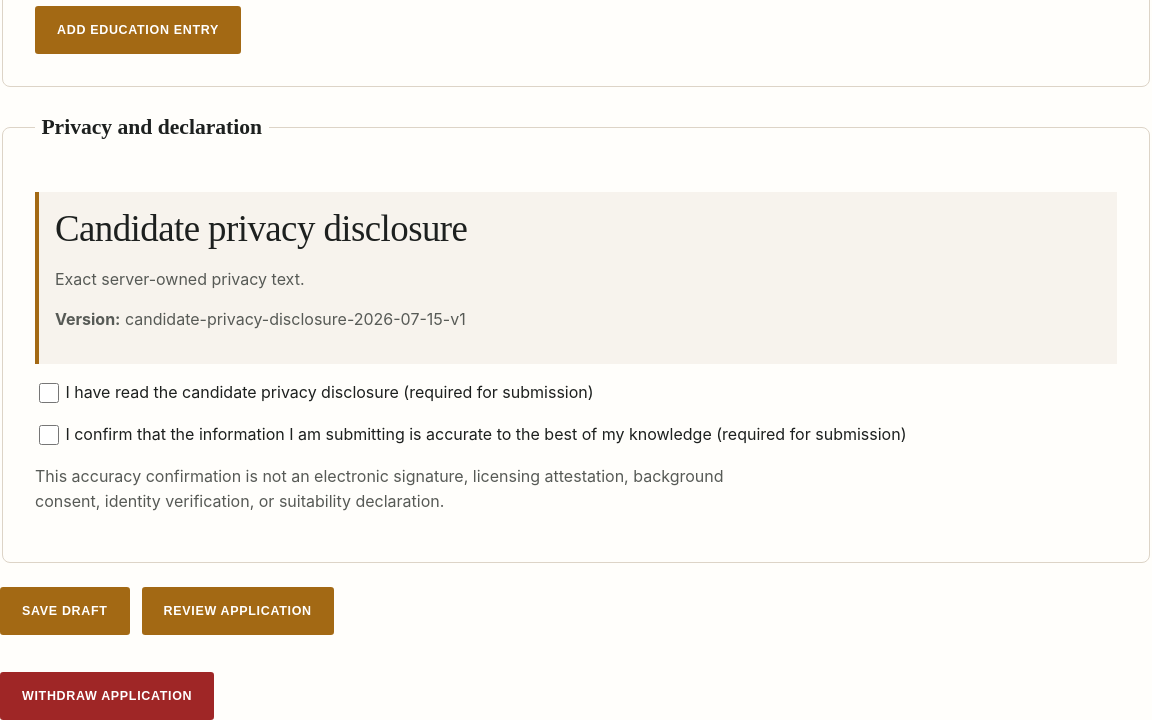
Test: candidate application UI › shows the exact server disclosure and restores focus when withdrawal is cancelled
(page scrolled)
Expected: the text "Exact server-owned privacy text." is shown, [55,269,304,289]
Click the button "Withdraw application". click: (107, 696)
box: [0,672,214,719]
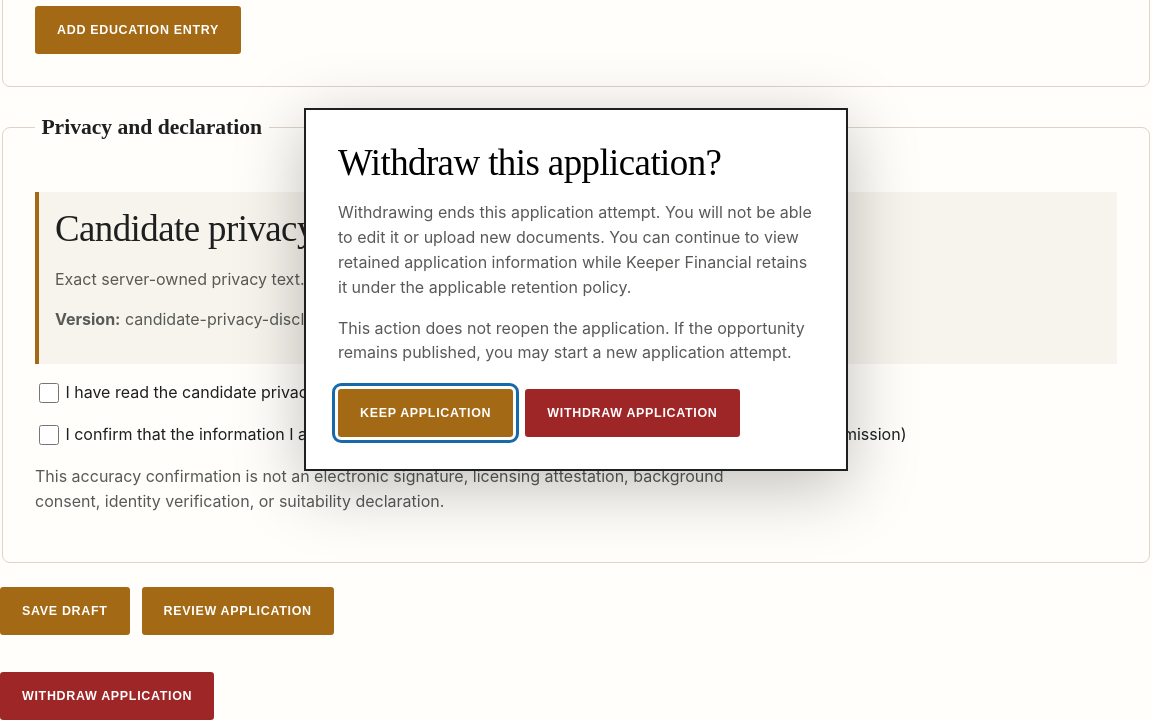
Expected: the dialog is shown, [304,108,848,471]
Click the button "Keep application". click: (426, 413)
box: [338,389,513,437]
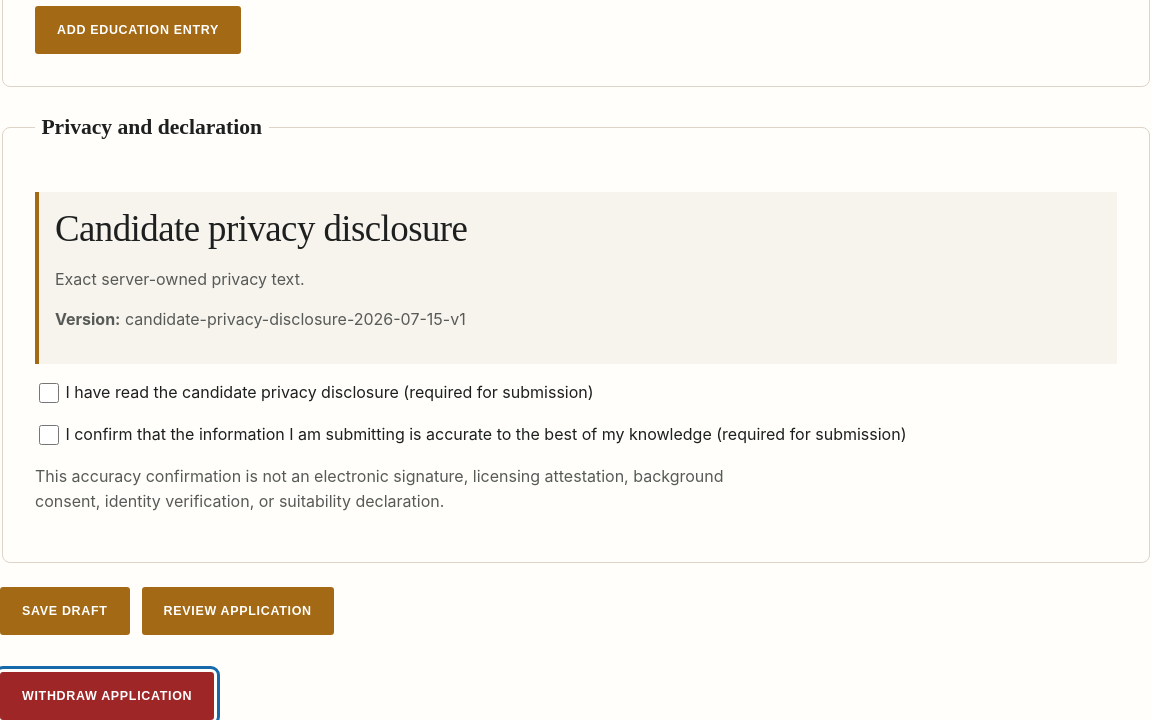
Expected: the dialog is gone
